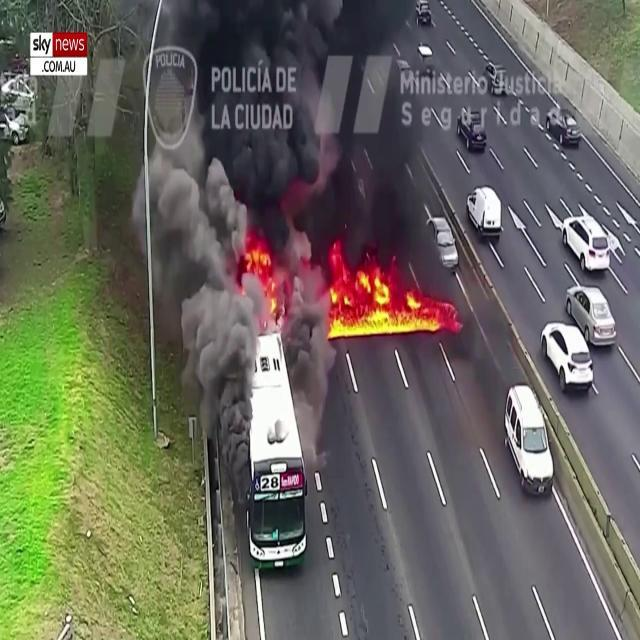Fire: (324, 261, 444, 335), (243, 232, 285, 324)
Smoke: (92, 0, 446, 307)
